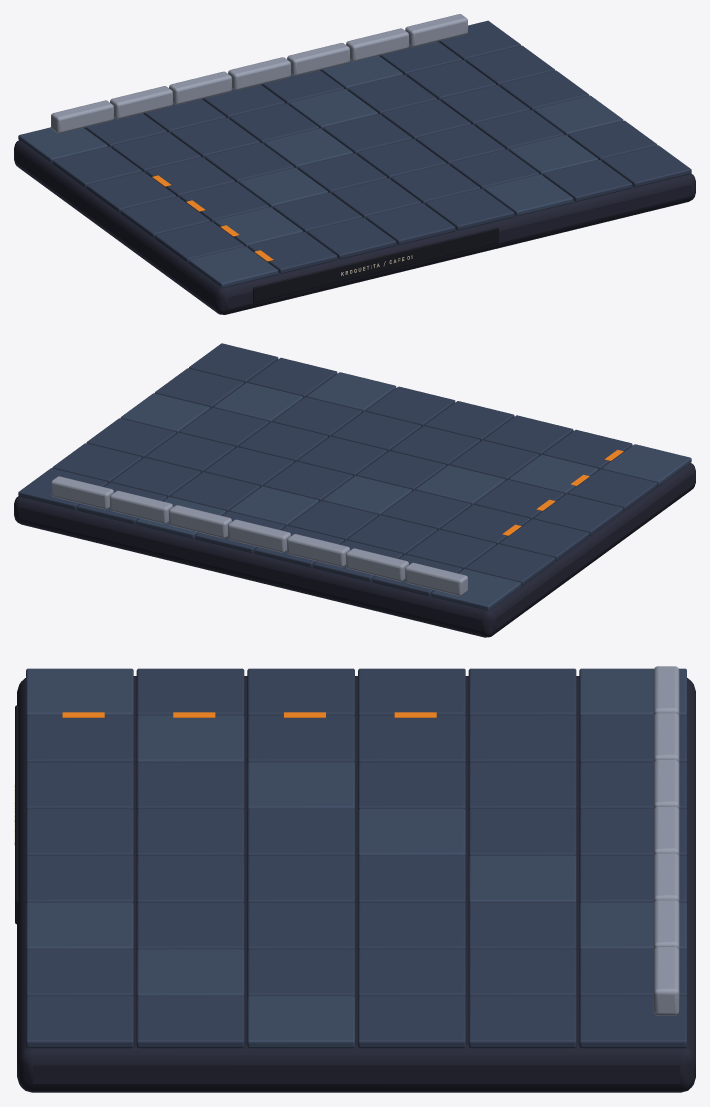
File: plaza_module.glb
3 views of the same model, one above another, from view 1: azimuth 30°, elevation 25°; view 2: azimuth 150°, elevation 25°; view 3: azimuth 270°, elevation 25° (orthographic). The views are drawn at different scales.
Visible parts, largest first — view 1: Foundation, Front plaque, Slate_00_00, Slate_02_00, Slate_07_00, Slate_04_00, Slate_03_00, Slate_05_00, Slate_06_00, Slate_01_00, Slate_00_04, Slate_00_03 (+45 smaller); view 2: Foundation, Slate_00_03, Slate_00_04, Slate_00_00, Slate_00_02, Slate_00_01, Slate_06_00, Slate_02_01, Slate_02_02, Slate_02_03, Slate_02_04, Slate_04_03 (+44 smaller); view 3: Foundation, Slate_07_01, Slate_07_04, Slate_07_00, Slate_07_03, Slate_07_02, Slate_07_05, Slate_00_04, Slate_04_01, Slate_05_01, Slate_04_04, Slate_05_04 (+45 smaller).
Boxes of the visible parts, <box> form: Foundation: <box>14,140,695,314</box>; Front plaque: <box>253,228,498,302</box>; Slate_00_00: <box>188,246,278,288</box>; Slate_02_00: <box>307,217,396,259</box>; Slate_07_00: <box>602,145,691,187</box>; Slate_04_00: <box>425,188,514,230</box>; Slate_03_00: <box>366,203,455,244</box>; Slate_05_00: <box>484,174,573,216</box>; Slate_06_00: <box>543,160,632,201</box>; Slate_01_00: <box>247,232,337,273</box>; Slate_00_04: <box>52,146,141,188</box>; Slate_00_03: <box>86,171,176,213</box>; Foundation: <box>14,463,695,637</box>; Slate_00_03: <box>499,519,589,560</box>; Slate_00_04: <box>465,544,555,585</box>; Slate_00_00: <box>602,444,691,485</box>; Slate_00_02: <box>534,494,623,535</box>; Slate_00_01: <box>568,469,657,510</box>; Slate_06_00: <box>247,357,337,398</box>; Slate_02_01: <box>450,440,539,480</box>; Slate_02_02: <box>416,465,505,505</box>; Slate_02_03: <box>381,490,471,530</box>; Slate_02_04: <box>347,515,437,555</box>; Slate_04_03: <box>263,461,353,501</box>; Foundation: <box>17,676,695,1092</box>; Slate_07_01: <box>136,996,244,1048</box>; Slate_07_04: <box>468,996,576,1048</box>; Slate_07_00: <box>26,996,133,1048</box>; Slate_07_03: <box>358,996,465,1048</box>; Slate_07_02: <box>247,996,354,1048</box>; Slate_07_05: <box>579,996,686,1048</box>; Slate_00_04: <box>468,668,576,716</box>; Slate_04_01: <box>136,855,244,903</box>; Slate_05_01: <box>136,902,244,950</box>; Slate_04_04: <box>468,855,576,903</box>; Slate_05_04: <box>468,902,576,950</box>.
Bounding box in the file's own units: 4.88 × 0.48 × 3.7.
